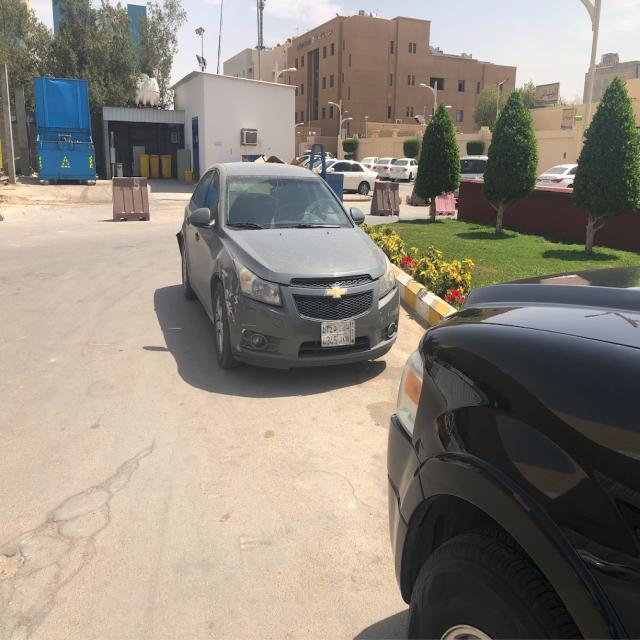license_plate: (320, 321, 354, 347)
